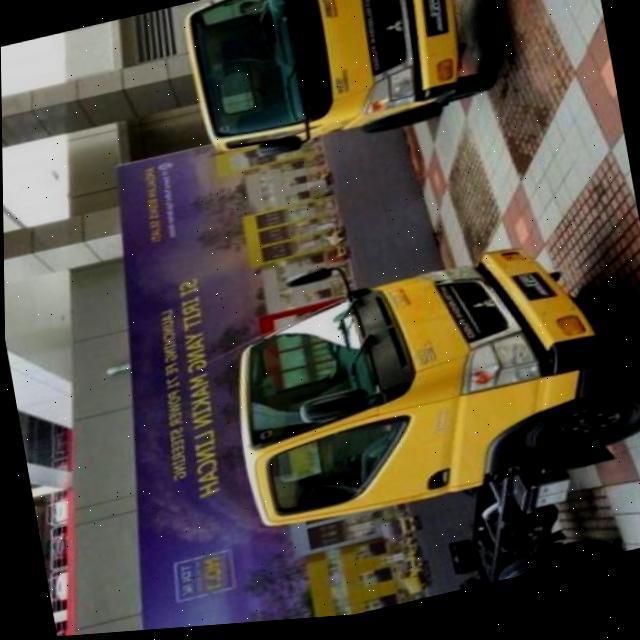truck: (208, 207, 640, 628), (180, 0, 508, 173)
